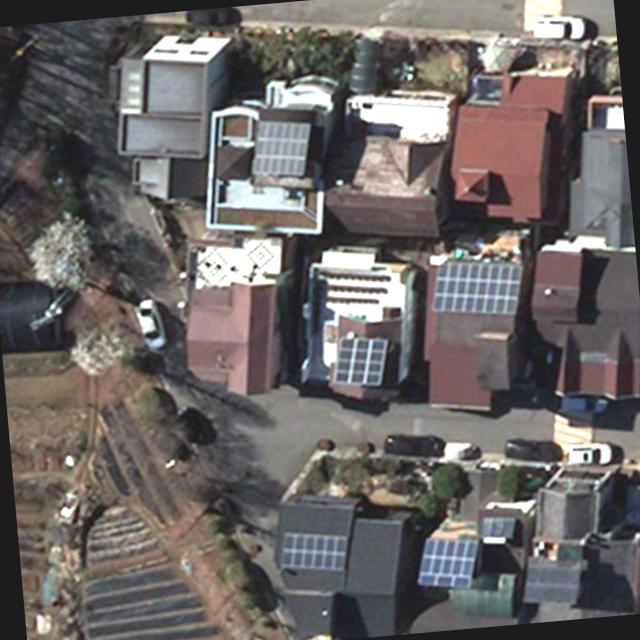solar: (426, 251, 528, 324), (246, 114, 318, 184), (412, 532, 482, 594), (274, 526, 351, 580), (326, 331, 394, 392), (478, 512, 520, 548)
